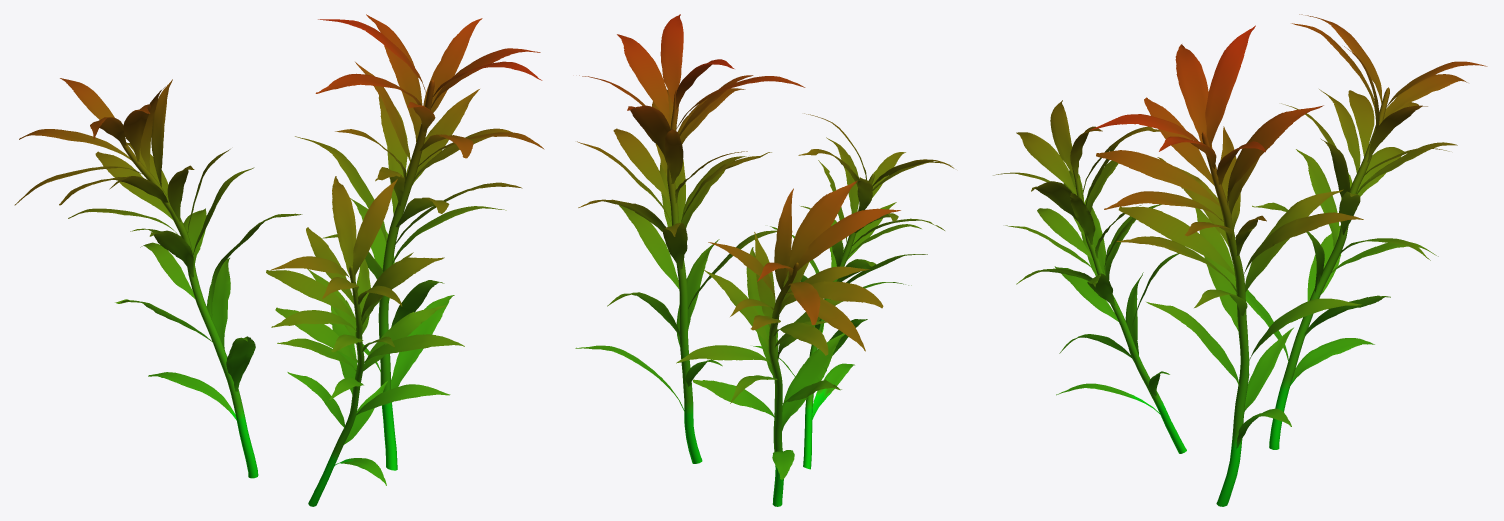
The model's file is Goldenrods_LOD0_Var6.fbx.
3 renders of one model, left to right at view 1: azimuth 30°, elevation 25°; view 2: azimuth 150°, elevation 25°; view 3: azimuth 270°, elevation 25°, orthographic. The views are drawn at different scales.
Visible parts, largest first — view 1: _0dp2_Var6_LOD0; view 2: _0dp2_Var6_LOD0; view 3: _0dp2_Var6_LOD0.
Part boxes in pixels (x1,y1,x2,y2): _0dp2_Var6_LOD0: [14, 14, 544, 506]; _0dp2_Var6_LOD0: [575, 14, 954, 506]; _0dp2_Var6_LOD0: [993, 14, 1487, 506].
Bounding box in the file's own units: 47.86 × 51.82 × 52.37.
